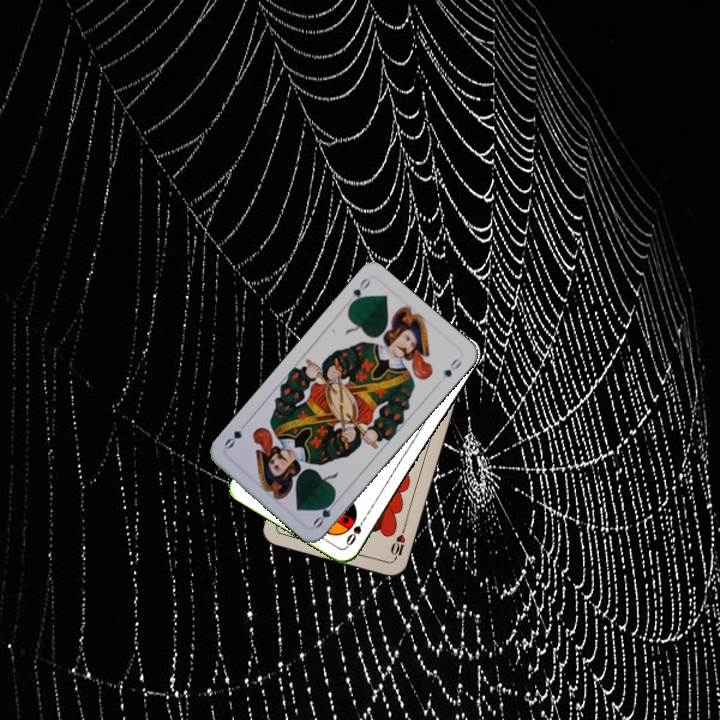GO: (309, 493, 341, 530), (345, 274, 373, 310)
H10: (386, 524, 408, 564)
SO: (342, 513, 369, 549)
